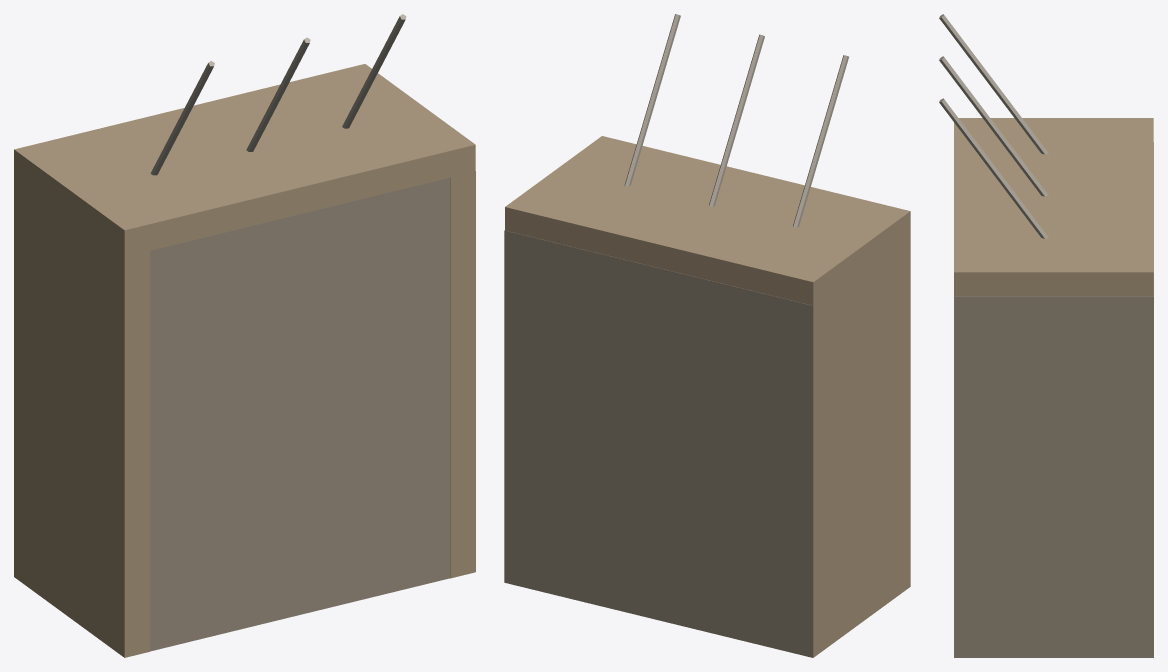
File: trench-line-1917-telephone-recess-660ad3ef__24071.glb
3 renders of one model, left to right at view 1: azimuth 30°, elevation 25°; view 2: azimuth 150°, elevation 25°; view 3: azimuth 270°, elevation 25°, orthographic. The views are drawn at different scales.
Parts seen in each view (by area): view 1: telephone-recess; view 2: telephone-recess; view 3: telephone-recess.
Boxes of the visible parts, x1,y1,x2,y2 form: telephone-recess: (14, 14, 475, 657); telephone-recess: (504, 14, 910, 657); telephone-recess: (939, 14, 1153, 657).
Size of the model in its own units: 1.1 by 1.74 by 0.6467.
